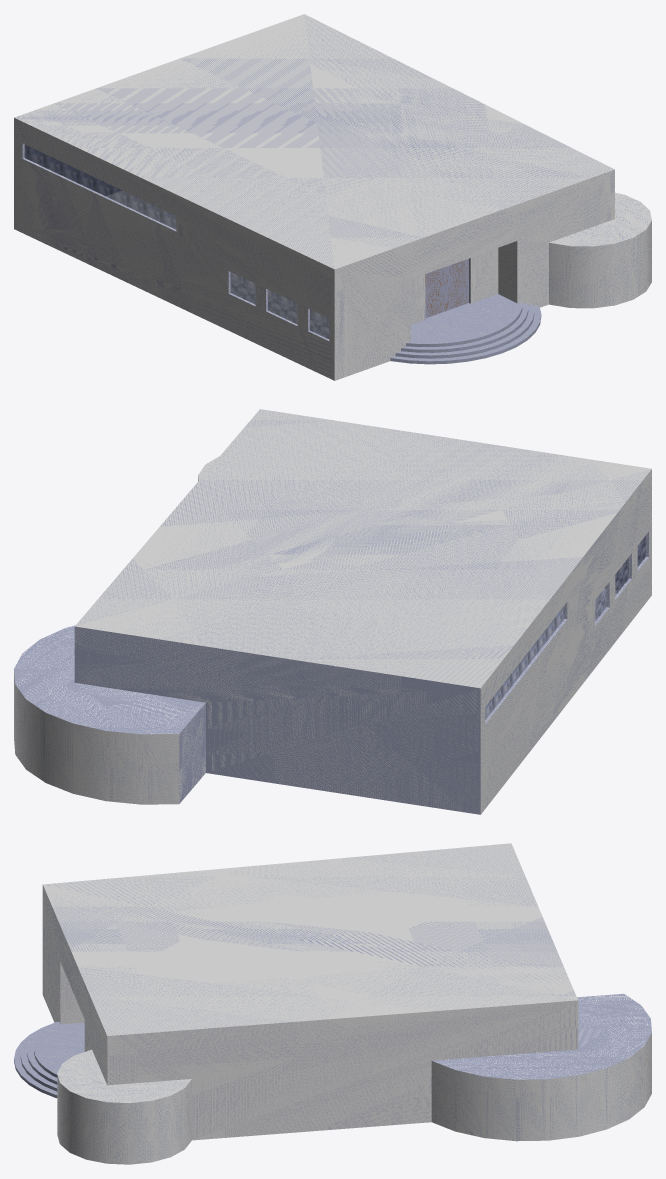
Rendered from cinama.fbx.
The picture shows the model from 3 angles, top to bottom: view 1: azimuth 30°, elevation 25°; view 2: azimuth 150°, elevation 25°; view 3: azimuth 270°, elevation 25°; orthographic projection. The views are drawn at different scales.
Visible parts, largest first — view 1: Model; view 2: Model; view 3: Model.
Part boxes in pixels (x1,y1,x2,y2): Model: (14, 14, 651, 380); Model: (14, 409, 651, 814); Model: (14, 843, 651, 1164).
Size of the model in its own units: 36.73 by 9 by 46.99.
